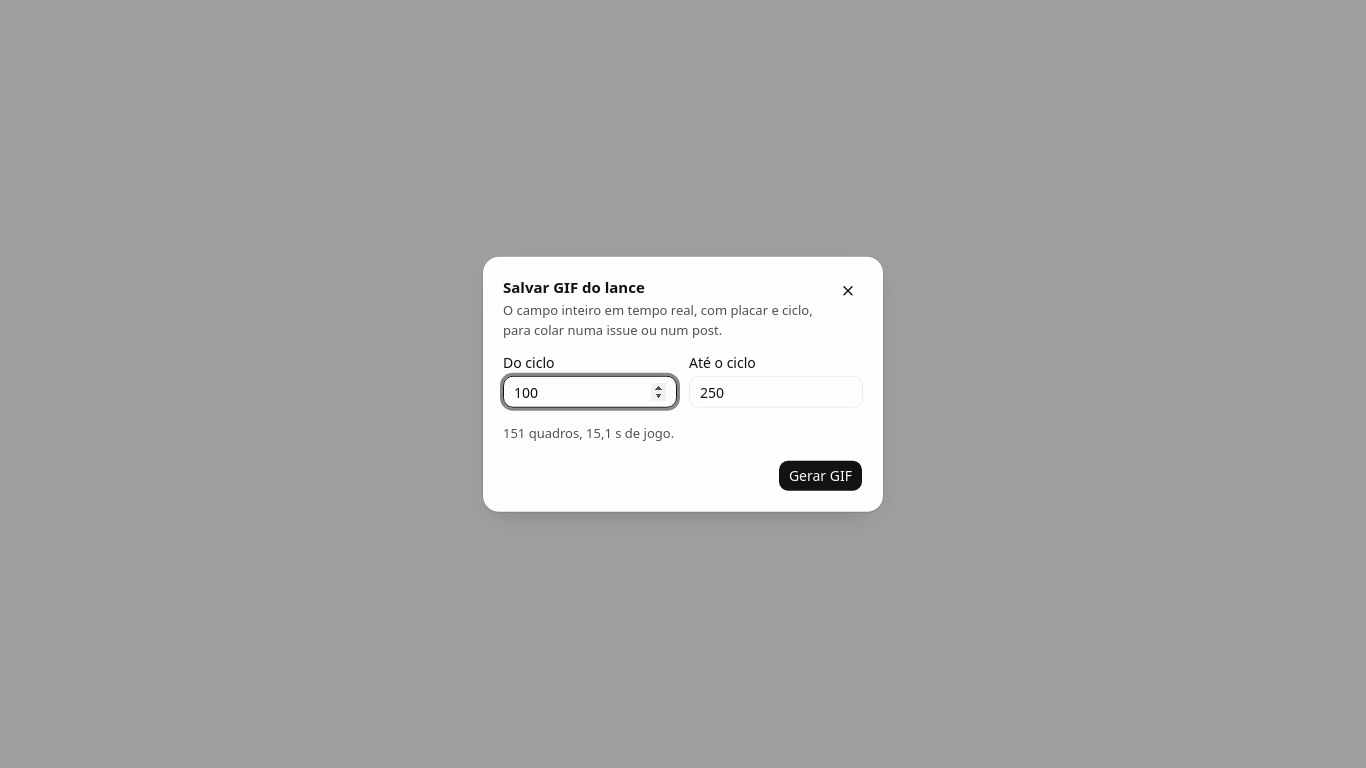
ClipDialog › disables the button and says why when the range cannot be clipped
Step 1. Replace the text in the number field labelled "Até o ciclo" with "50" → point(776, 392), box [689, 376, 863, 408]
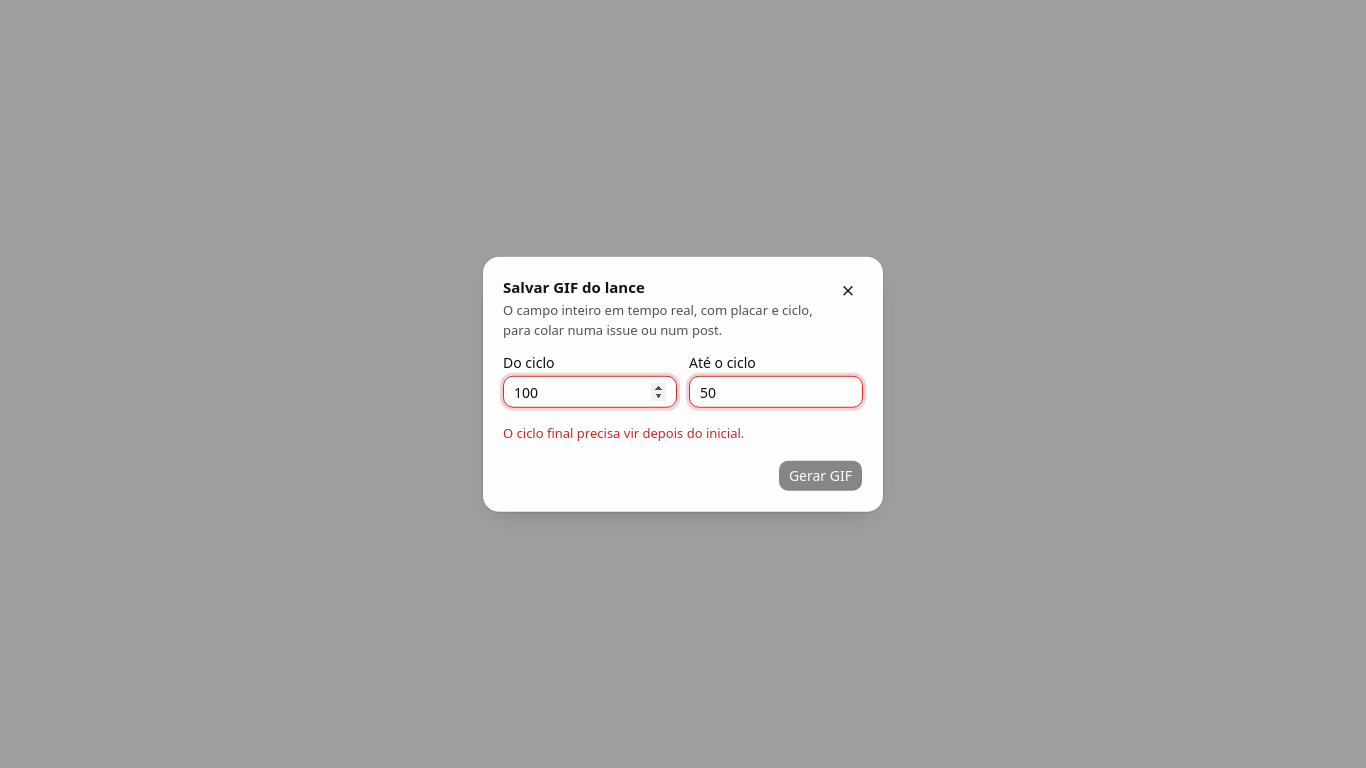
Now the text "O ciclo final precisa vir depois do inicial." is shown, box [503, 424, 744, 442]
Now the button "Gerar GIF" is disabled, box [778, 459, 863, 491]
